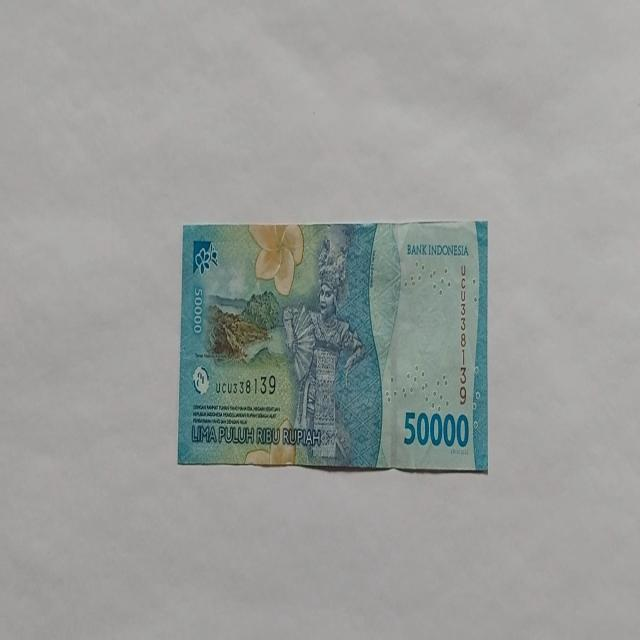lima puluh ribu rupiah: (176, 219, 488, 473), (282, 234, 366, 466)
